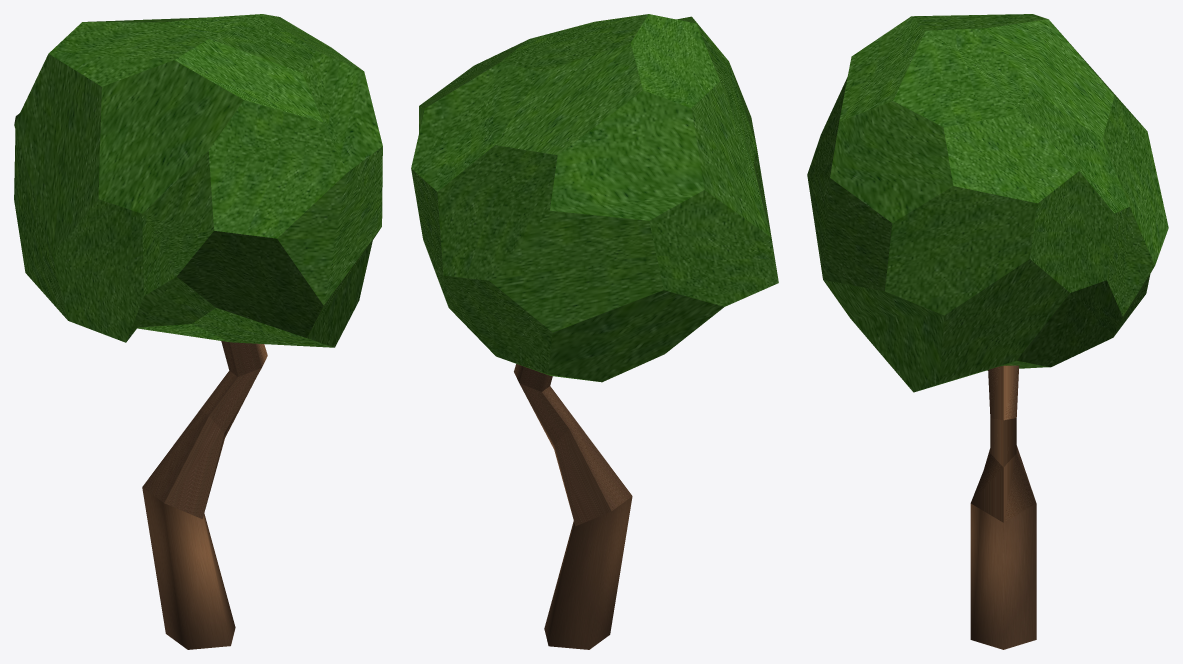
File: arbol2.FBX
The picture shows the model from 3 angles, left to right: view 1: azimuth 30°, elevation 25°; view 2: azimuth 150°, elevation 25°; view 3: azimuth 270°, elevation 25°; orthographic projection. The views are drawn at different scales.
Visible parts, largest first — view 1: Hedra001; view 2: Hedra001; view 3: Hedra001.
Part boxes in pixels (x1,y1,x2,y2): Hedra001: (14, 14, 382, 649); Hedra001: (411, 14, 778, 649); Hedra001: (807, 14, 1168, 649).
Size of the model in its own units: 25.9 by 47.79 by 26.61.
2 materials, 2 textured.
